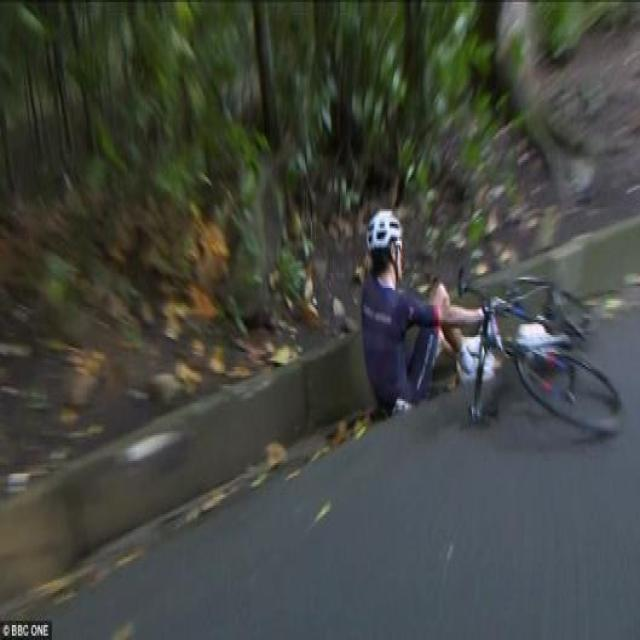fall: (366, 224, 476, 390)
